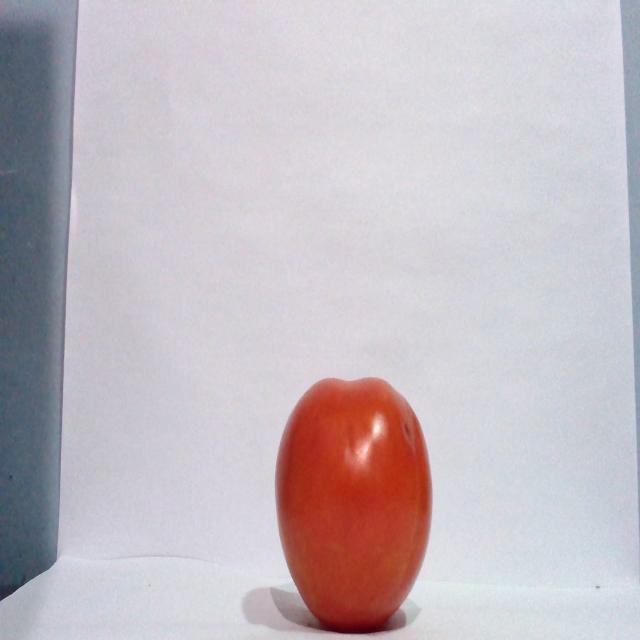Red: (273, 374, 433, 631)
